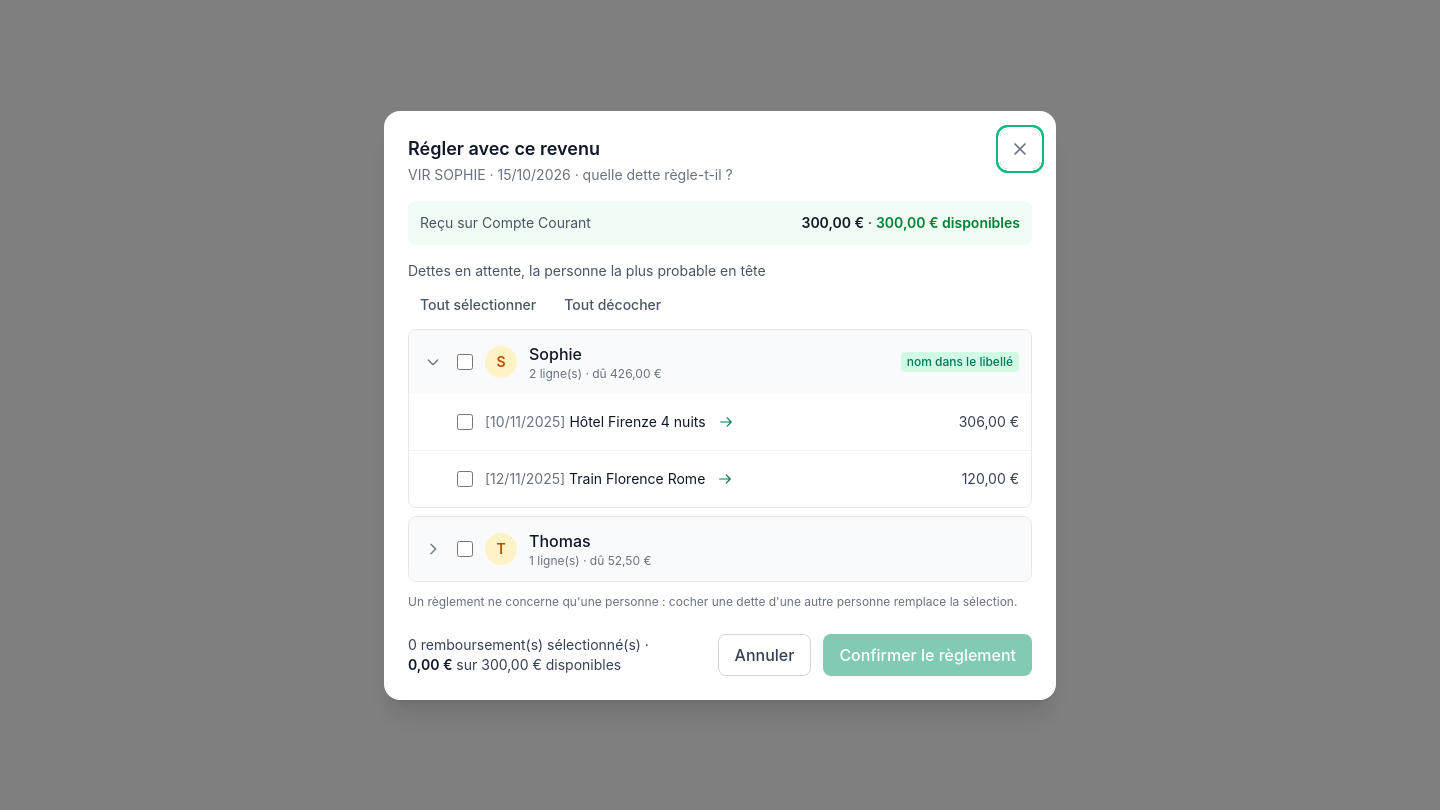
Test: IncomeSettlementModal › when the selection owes more than the income holds › goes back to the selection with the back arrow
The image size is (1440, 810).
Click the checkbox labelled "S Sophie 2 ligne(s) · dû 426,00 € nom dans le libellé".
click(465, 362)  # box [457, 354, 473, 370]
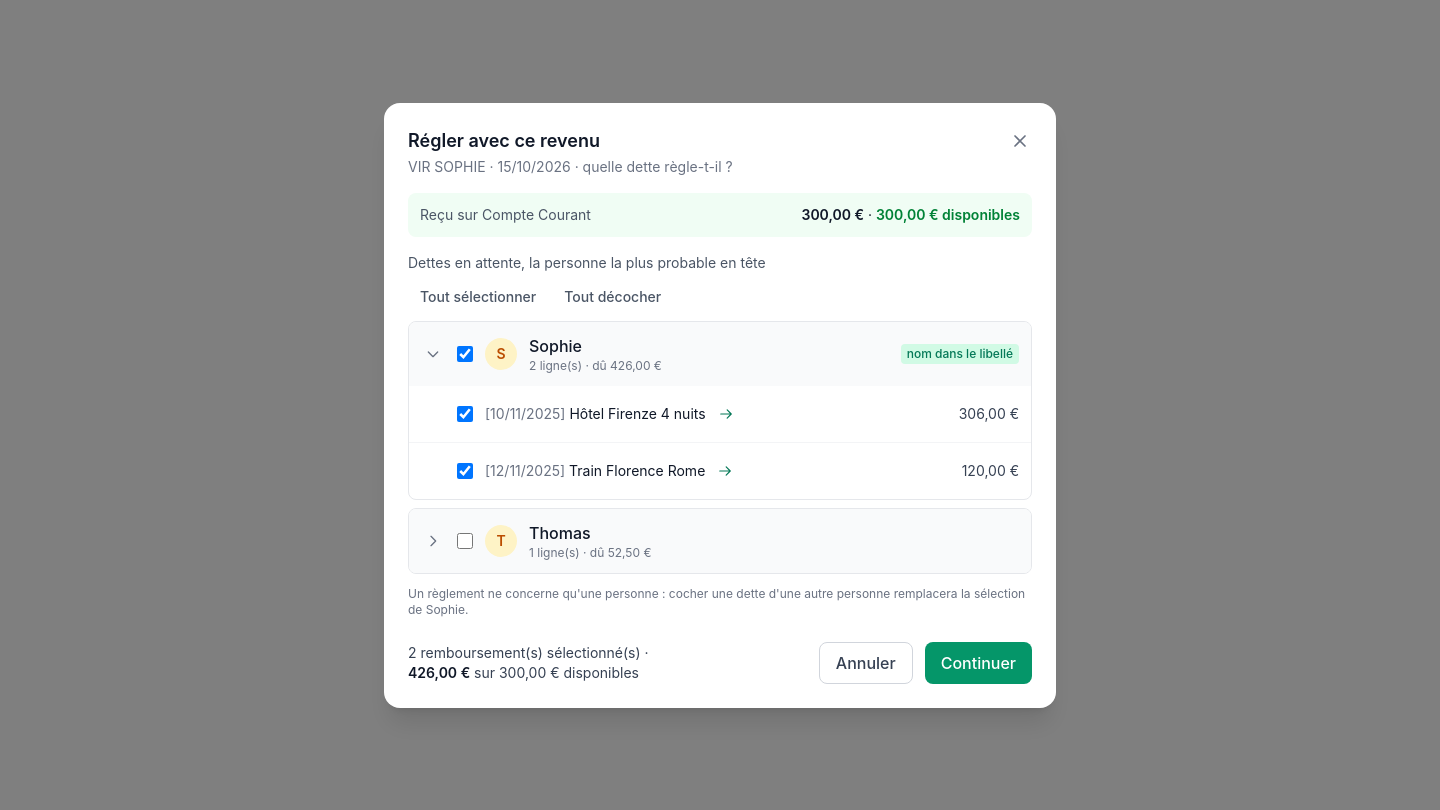
Click the button with test id "income-settlement-continue".
click(978, 662)  # box [925, 642, 1032, 684]
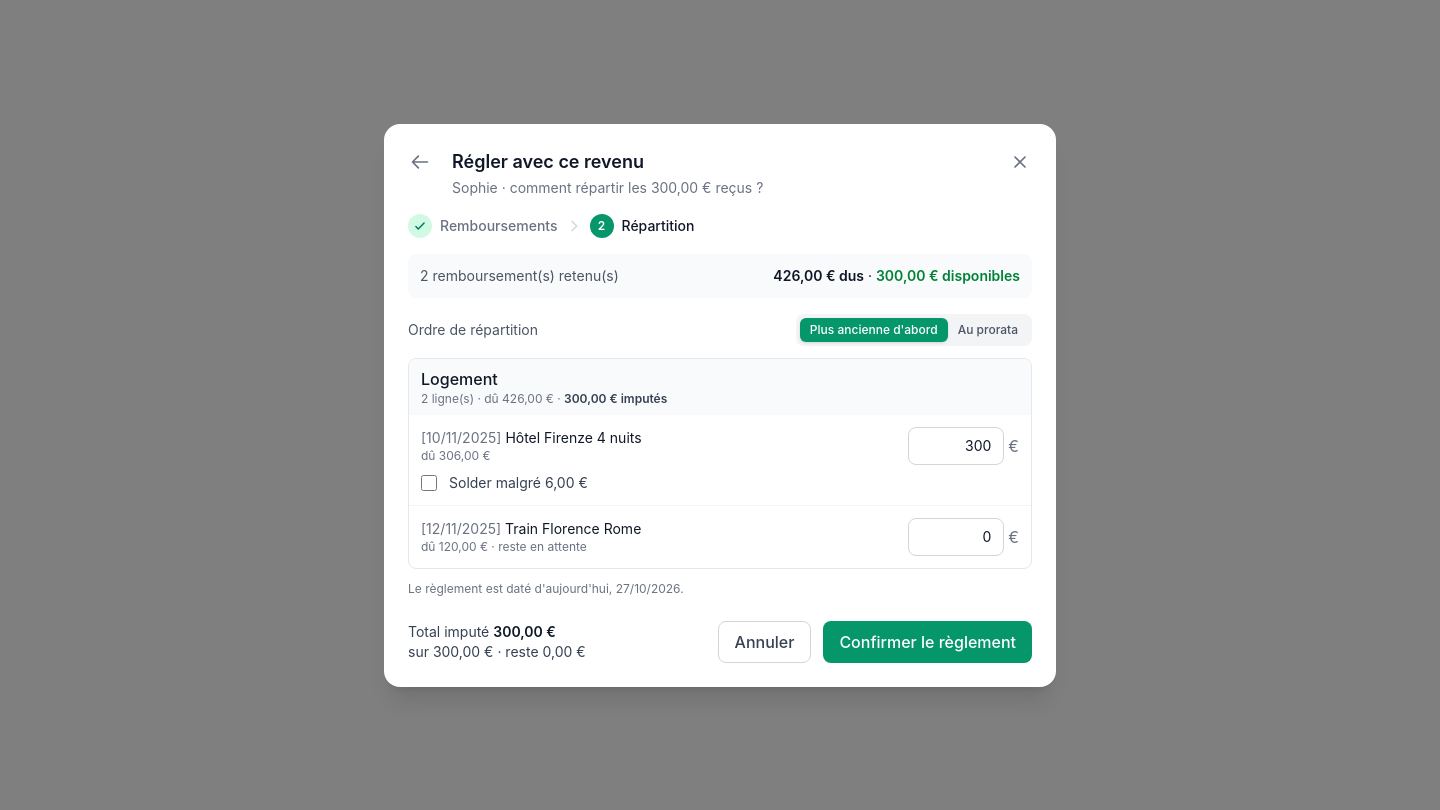
Click the button with test id "income-settlement-back".
click(420, 162)  # box [400, 142, 440, 182]
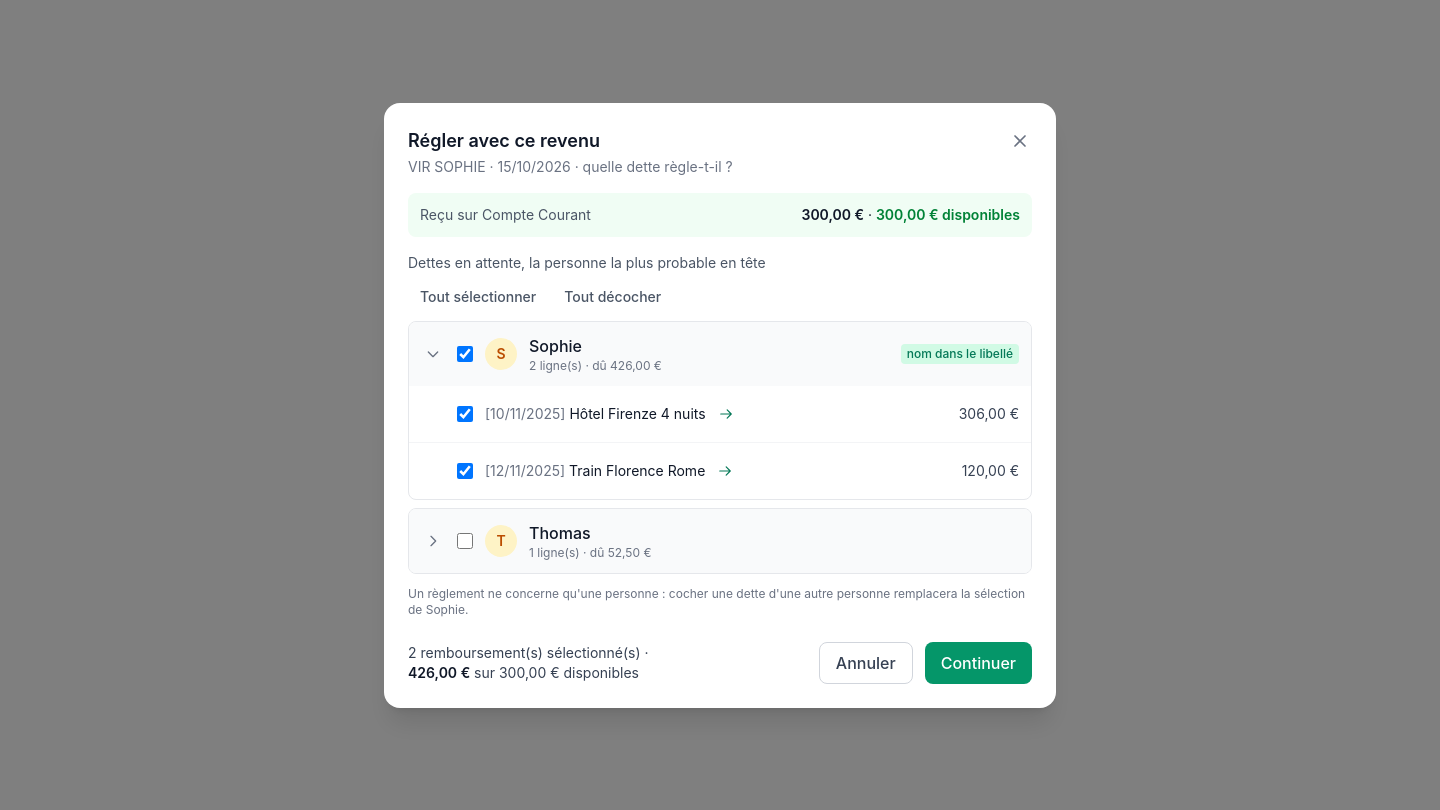
Check: the element with test id "income-settlement-step-select" is shown, box [408, 192, 1032, 618]
